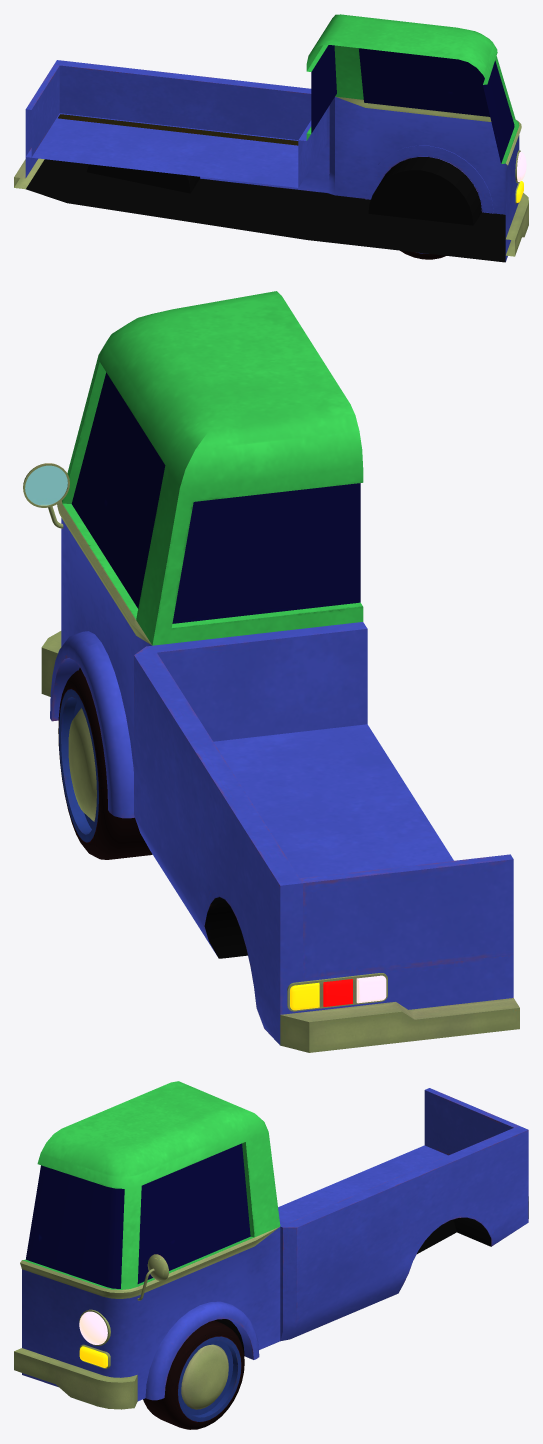
The model's file is voiture.gltf.
The picture shows the model from 3 angles, top to bottom: view 1: azimuth 30°, elevation 25°; view 2: azimuth 150°, elevation 25°; view 3: azimuth 270°, elevation 25°; orthographic projection. The views are drawn at different scales.
Visible parts, largest first — view 1: Pick Up 3D Illustration, Trunk, Slider, Front Bumper, Head Lamp; view 2: Pick Up 3D Illustration, Trunk, Wheels, Offer Fender, Rear Light, Mirror, Front Bumper; view 3: Pick Up 3D Illustration, Wheels, Front Bumper, Trunk, Offer Fender, Head Lamp, Mirror, Front Fog Lamp.
Boxes of the visible parts, x1,y1,x2,y2 form: Pick Up 3D Illustration: [14, 14, 521, 262]; Trunk: [25, 65, 59, 157]; Slider: [58, 114, 298, 145]; Front Bumper: [506, 193, 528, 256]; Head Lamp: [515, 150, 526, 183]; Pick Up 3D Illustration: [57, 291, 519, 1052]; Trunk: [300, 854, 513, 978]; Wheels: [58, 669, 152, 859]; Offer Fender: [50, 631, 134, 818]; Rear Light: [287, 973, 387, 1011]; Mirror: [23, 463, 69, 528]; Front Bumper: [41, 631, 61, 696]; Pick Up 3D Illustration: [20, 1081, 528, 1401]; Wheels: [143, 1320, 244, 1429]; Front Bumper: [14, 1348, 137, 1409]; Trunk: [424, 1088, 518, 1155]; Offer Fender: [145, 1301, 259, 1400]; Head Lamp: [79, 1309, 110, 1345]; Mirror: [137, 1254, 168, 1300]; Front Fog Lamp: [79, 1344, 110, 1368].
Size of the model in its own units: 0.7992 by 0.4947 by 0.8238.
1 material, 1 textured.
